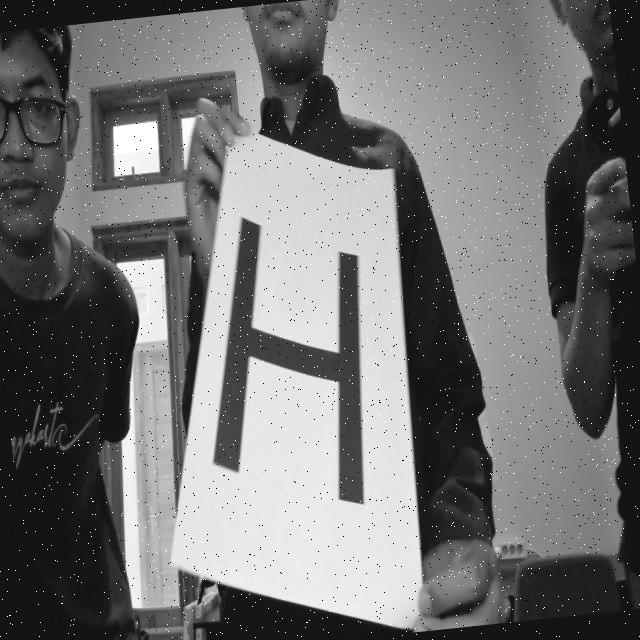h: (174, 188, 388, 536)
